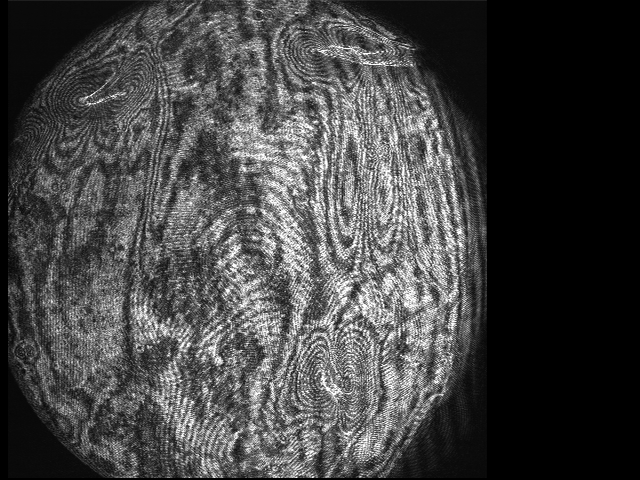plume: (286, 331, 376, 420)
